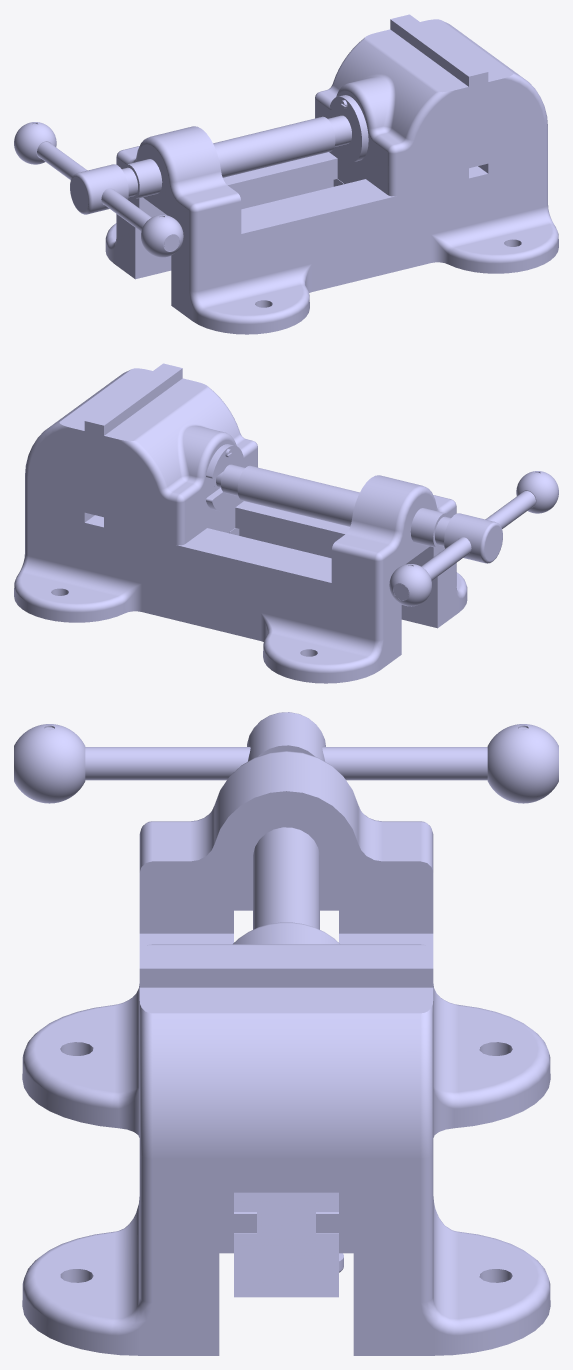
3 renders of one model, top to bottom at view 1: azimuth 30°, elevation 25°; view 2: azimuth 150°, elevation 25°; view 3: azimuth 270°, elevation 25°, orthographic. The views are drawn at different scales.
Parts seen in each view (by area): view 1: Solid1 (×9); view 2: Solid1 (×9); view 3: Solid1 (×8).
Boxes of the visible parts, x1=… form: Solid1 (×9): x1=14, y1=14, x2=558, y2=334; Solid1 (×9): x1=14, y1=363, x2=558, y2=683; Solid1 (×8): x1=14, y1=712, x2=558, y2=1355.
Bounding box in the file's own units: 0.0955 × 0.0381 × 0.0559.
